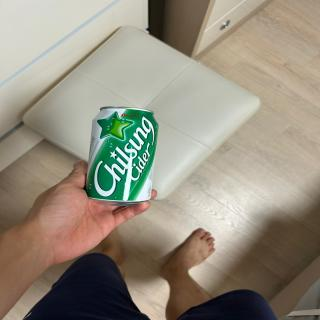cocacola: (84, 105, 159, 205)
